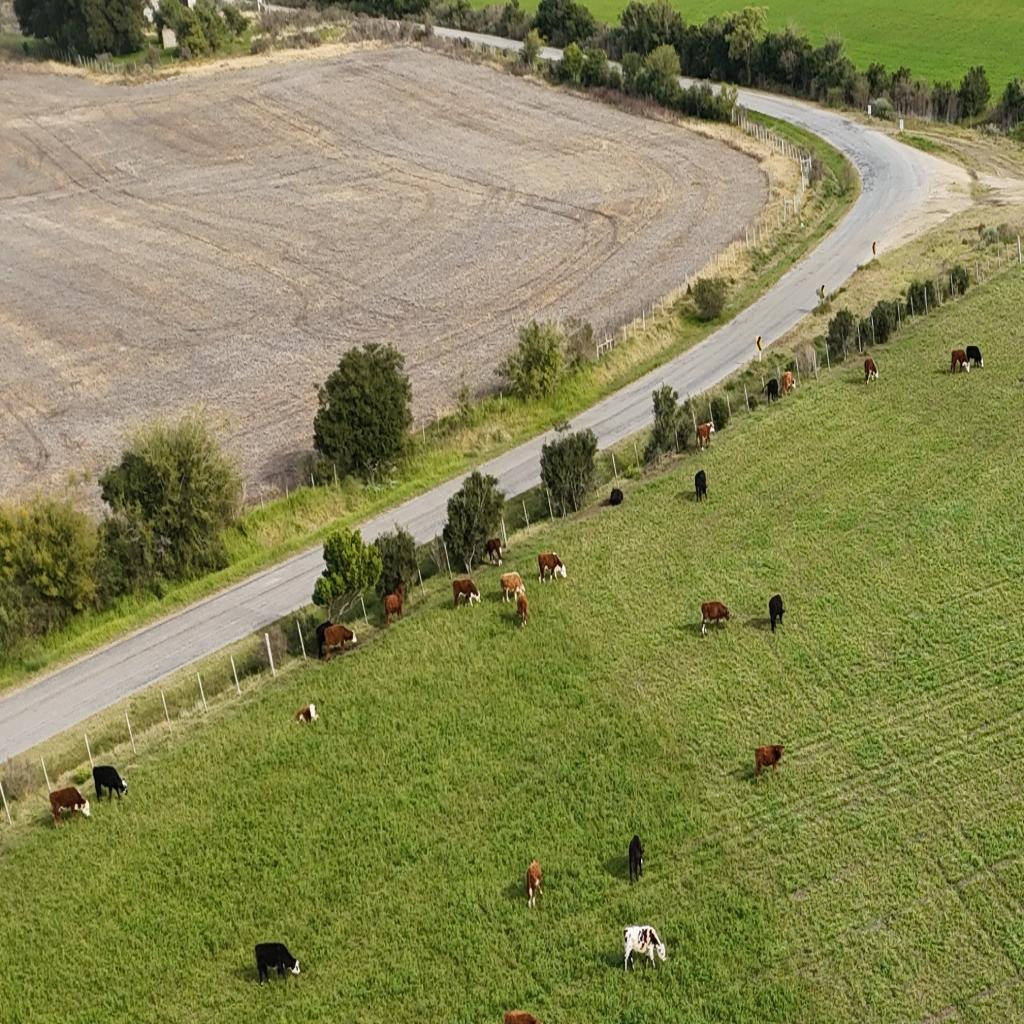cow: (623, 924, 665, 972), (254, 944, 296, 986), (48, 786, 90, 827), (322, 623, 358, 661), (92, 766, 128, 803), (754, 745, 784, 782), (701, 600, 731, 634), (537, 552, 568, 584), (452, 577, 482, 610), (383, 583, 404, 628), (527, 859, 544, 910), (500, 570, 525, 602), (629, 835, 645, 883), (768, 594, 786, 632), (695, 420, 716, 449), (484, 537, 504, 567), (949, 349, 971, 376), (296, 702, 318, 726), (694, 469, 708, 501), (516, 593, 528, 629), (781, 370, 795, 398), (864, 358, 879, 383), (967, 344, 984, 366), (765, 378, 779, 404), (609, 488, 623, 506)
